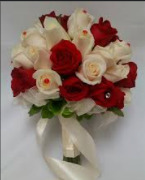RedRose: (46, 37, 85, 75), (93, 80, 128, 112), (90, 14, 120, 47), (7, 65, 39, 94)
